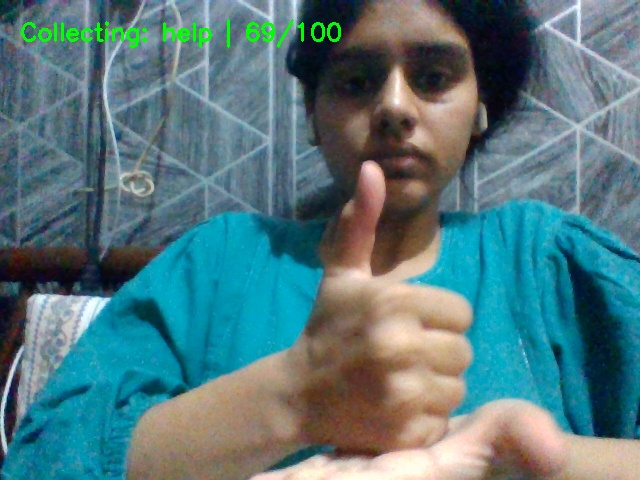help: (258, 149, 579, 480)
